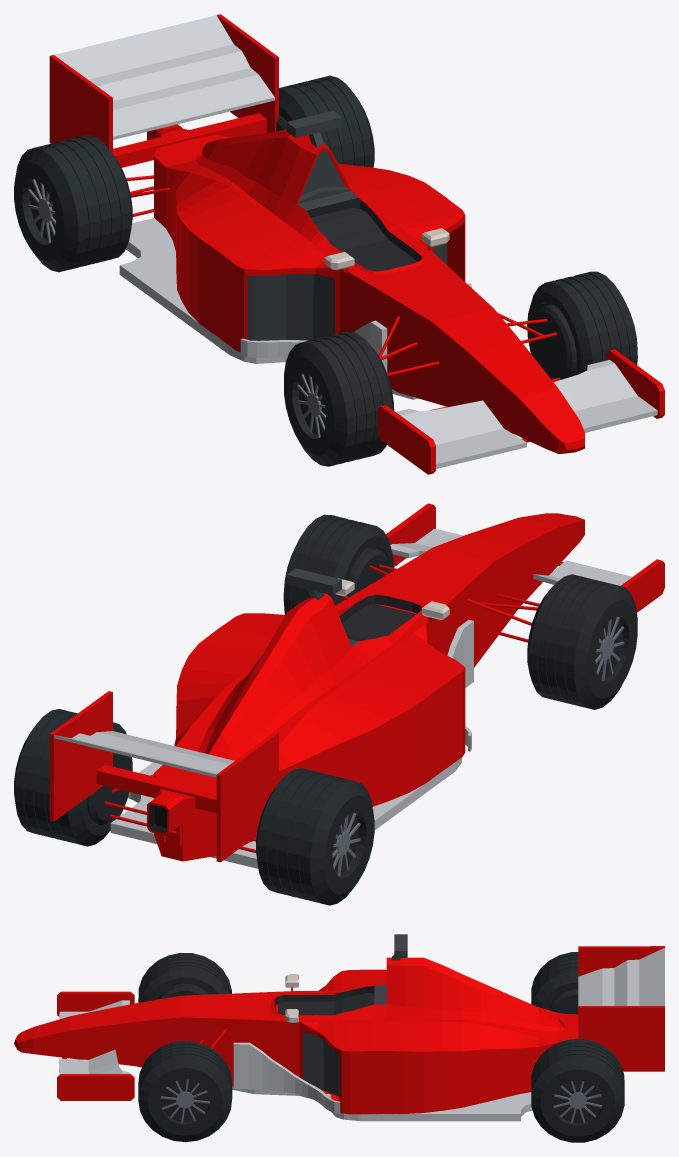
3 views of the same model, one above another, from view 1: azimuth 30°, elevation 25°; view 2: azimuth 150°, elevation 25°; view 3: azimuth 270°, elevation 25° (orthographic). The views are drawn at different scales.
Parts seen in each view (by area): view 1: formula_one, wheel_011.001, whell_012, wheel_013, wheel_011; view 2: formula_one, wheel_011.001, whell_012, wheel_011, wheel_013; view 3: formula_one, wheel_011, wheel_013, whell_012, wheel_011.001.
Part boxes in pixels (x1,y1,x2,y2): formula_one: [49, 14, 664, 474]; wheel_011.001: [14, 134, 132, 272]; whell_012: [284, 331, 394, 466]; wheel_013: [527, 271, 637, 379]; wheel_011: [276, 75, 374, 167]; formula_one: [49, 503, 664, 868]; wheel_011.001: [256, 768, 374, 905]; whell_012: [527, 574, 637, 709]; wheel_011: [14, 709, 132, 846]; wheel_013: [283, 514, 394, 614]; formula_one: [14, 934, 664, 1121]; wheel_011: [531, 1039, 624, 1142]; wheel_013: [138, 1040, 232, 1142]; whell_012: [138, 952, 231, 1002]; wheel_011.001: [531, 952, 578, 1014].
Size of the model in its own units: 2.2 by 1.36 by 5.43.
2 materials, 1 textured.
